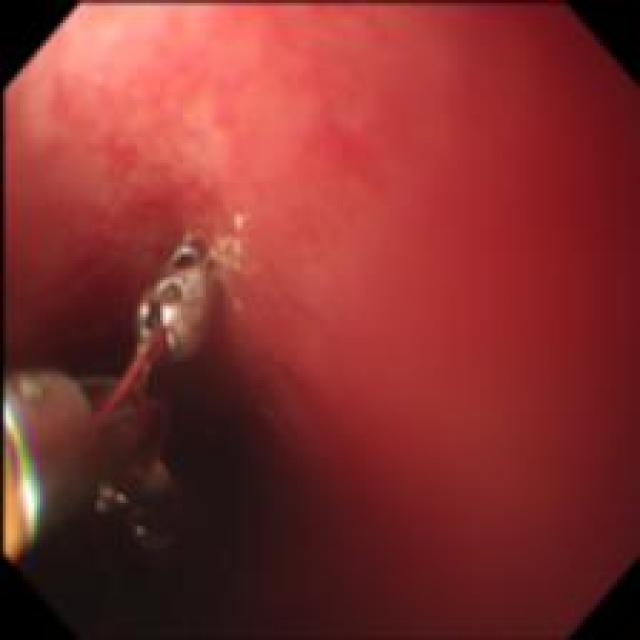blur: (1, 4, 639, 638), (92, 241, 229, 411)
color misalignment: (4, 411, 46, 552)
contrast: (10, 316, 306, 631)
instrument: (1, 368, 191, 589), (90, 238, 232, 415)
specularity: (159, 302, 179, 325)
